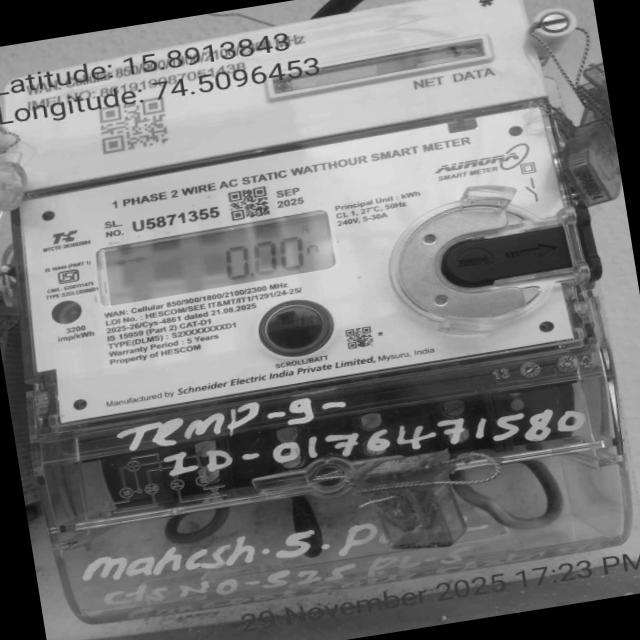meter: (0, 0, 599, 426)
